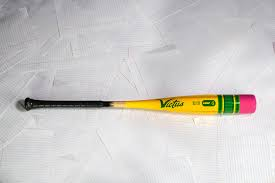baseball bat: (23, 94, 257, 115)
